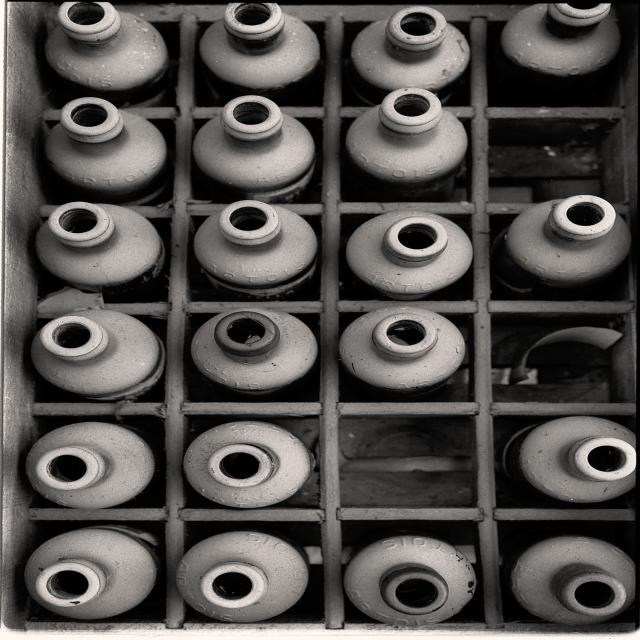Bottle: (492, 195, 631, 297), (346, 88, 468, 201), (490, 4, 620, 106), (194, 96, 315, 202), (46, 98, 167, 204), (46, 2, 168, 106), (25, 525, 158, 619), (344, 534, 476, 627), (194, 201, 317, 300), (31, 310, 165, 400), (200, 3, 320, 103), (177, 531, 308, 622), (351, 6, 470, 105), (502, 416, 636, 503), (36, 202, 165, 292), (184, 421, 314, 508), (509, 535, 635, 624), (347, 211, 472, 300), (340, 308, 465, 396), (192, 309, 318, 396), (27, 422, 154, 508)
